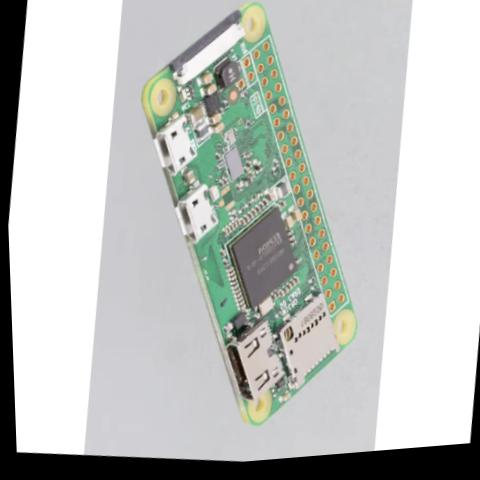Raspberry-Pi-Zero-W: (97, 0, 398, 451)
